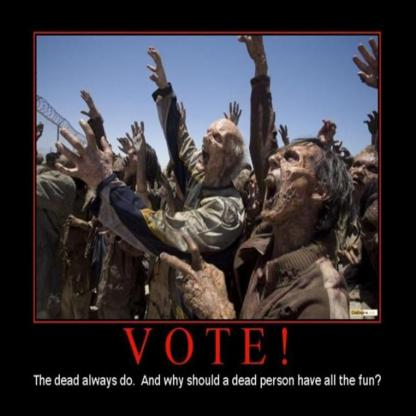face: (263, 145, 316, 224), (200, 124, 229, 178), (350, 150, 378, 198), (124, 145, 149, 178)
